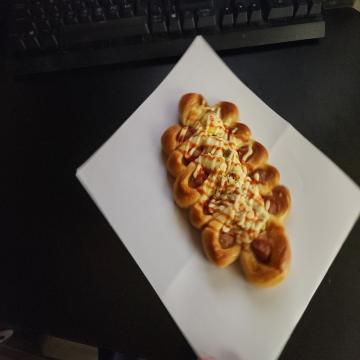pizza_bread: (162, 95, 290, 285)
